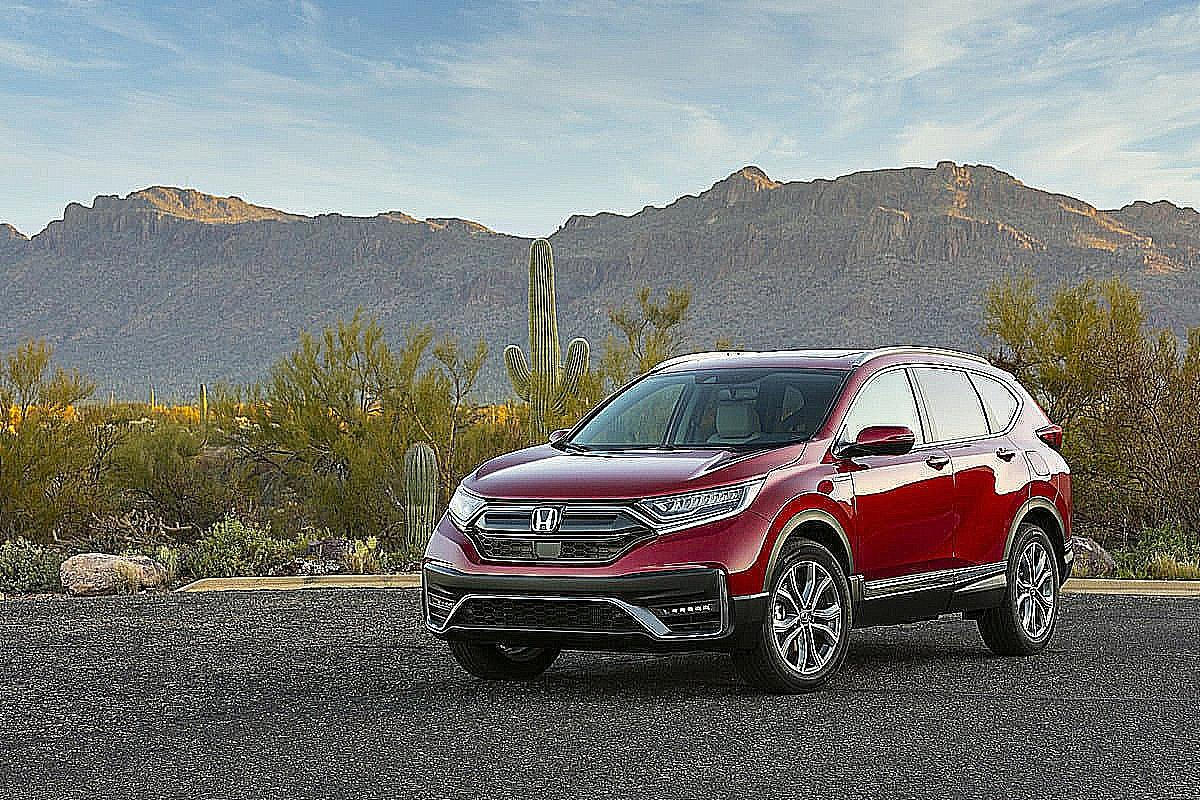Car hood: (459, 441, 811, 507)
Fender - -F-L-: (746, 424, 863, 635)
Fender - -R-L-: (1004, 409, 1063, 513)
Front bumper: (411, 519, 785, 666)
Headlight - -L-: (626, 473, 774, 538)
Headlight - -R-: (438, 476, 498, 542)
Passenger-s door - -F-L-: (846, 351, 955, 594)
Passenger-s door - -R-L-: (930, 348, 1036, 598)
Rear bumper: (1054, 463, 1088, 590)
Rear light - -L-: (1029, 409, 1068, 455)
Side bumper - -L-: (841, 556, 1021, 635)
Side mirror - -L-: (840, 418, 916, 465)
Side mirror - -R-: (543, 421, 578, 451)
